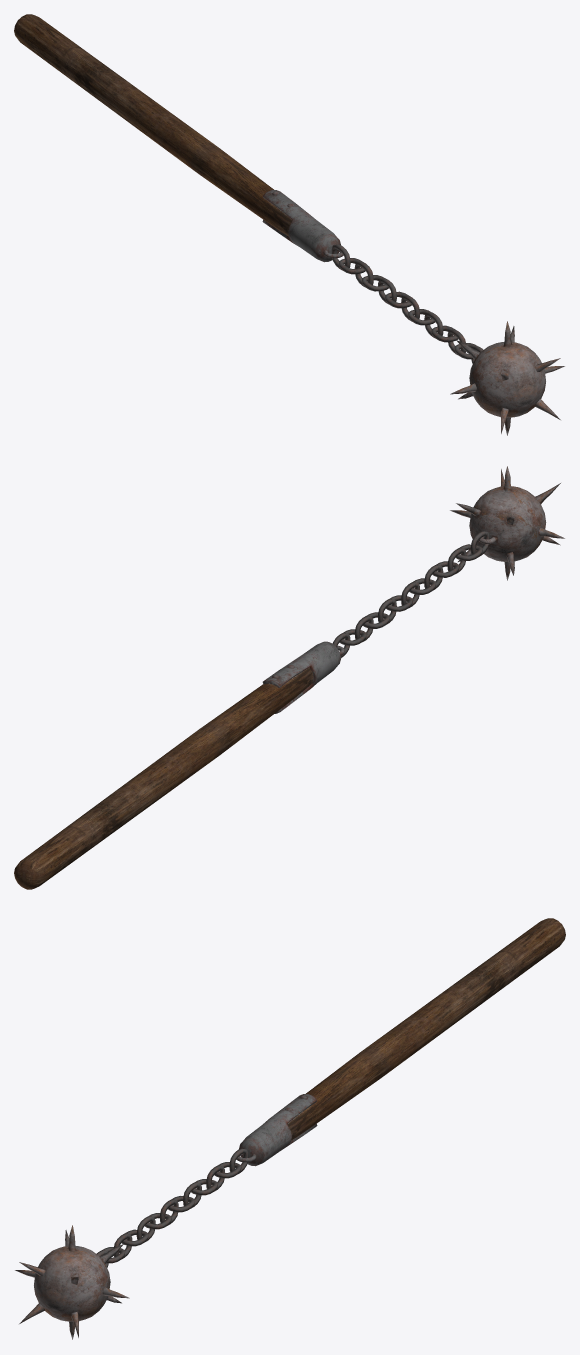
File: flail.fbx
The picture shows the model from 3 angles, top to bottom: view 1: azimuth 30°, elevation 25°; view 2: azimuth 150°, elevation 25°; view 3: azimuth 330°, elevation 25°; orthographic projection.
Visible parts, largest first — view 1: WP_A_1250; view 2: WP_A_1250; view 3: WP_A_1250.
Part boxes in pixels (box(x1,y1,x2,y2)): WP_A_1250: box(14, 14, 564, 435); WP_A_1250: box(14, 466, 564, 889); WP_A_1250: box(15, 918, 565, 1339).
Bounding box in the file's own units: 14.35 × 13.68 × 108.
1 material, 1 textured.
